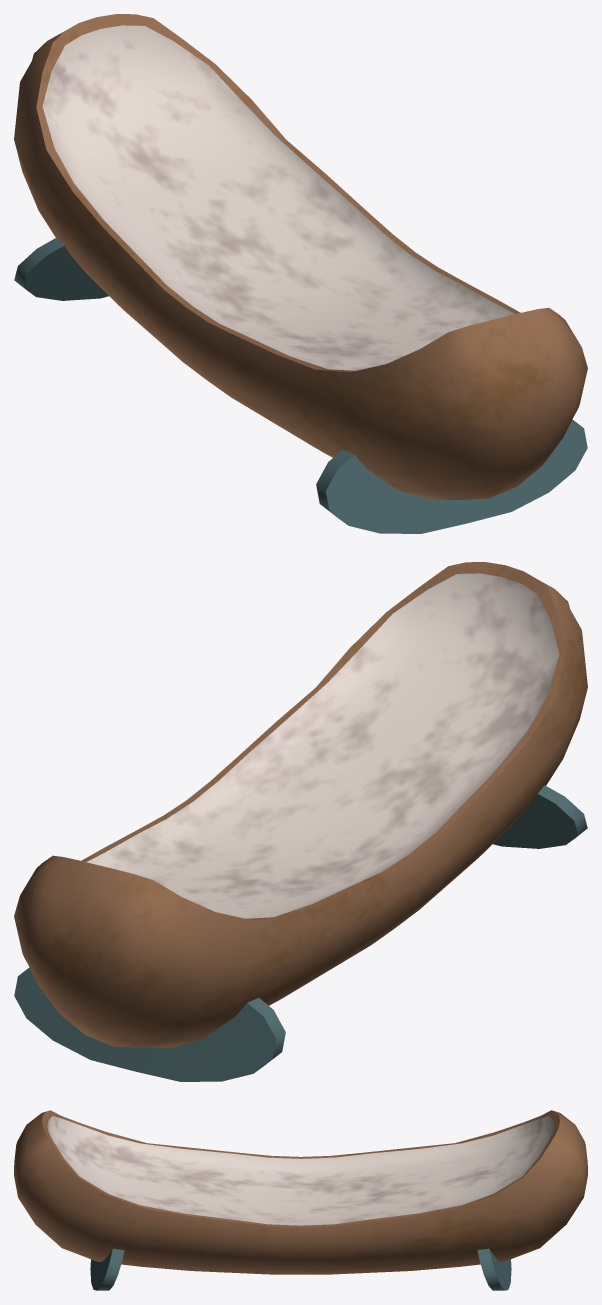
The model's file is FI_068_baby_cradle.glb.
The picture shows the model from 3 angles, top to bottom: view 1: azimuth 30°, elevation 25°; view 2: azimuth 150°, elevation 25°; view 3: azimuth 270°, elevation 25°; orthographic projection. The views are drawn at different scales.
Parts seen in each view (by area): view 1: cradle; view 2: cradle; view 3: cradle.
Part boxes in pixels (x1=…): cradle: x1=14, y1=14, x2=587, y2=533; cradle: x1=14, y1=562, x2=587, y2=1081; cradle: x1=14, y1=1110, x2=587, y2=1290.
Bounding box in the file's own units: 0.7395 × 0.6421 × 2.25.
3 materials, 2 textured.
